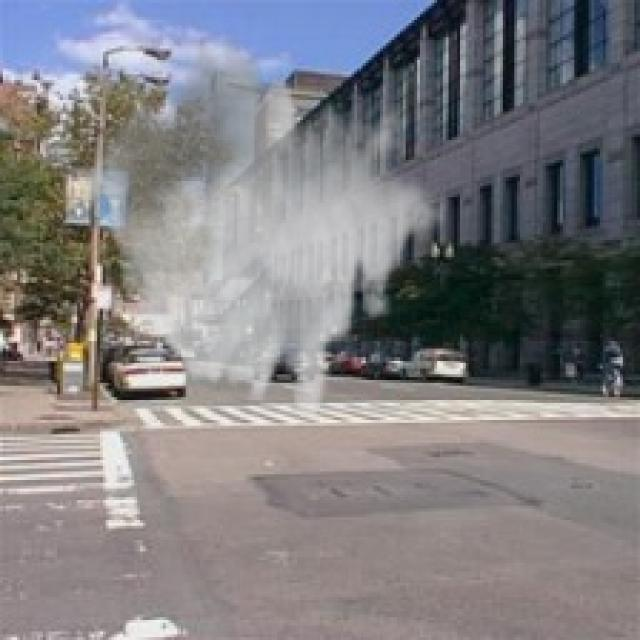Smoke: (80, 34, 449, 432)
